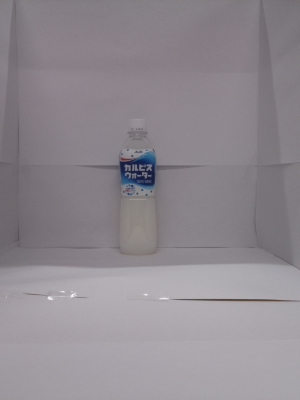カルピス: (111, 113, 165, 261)
